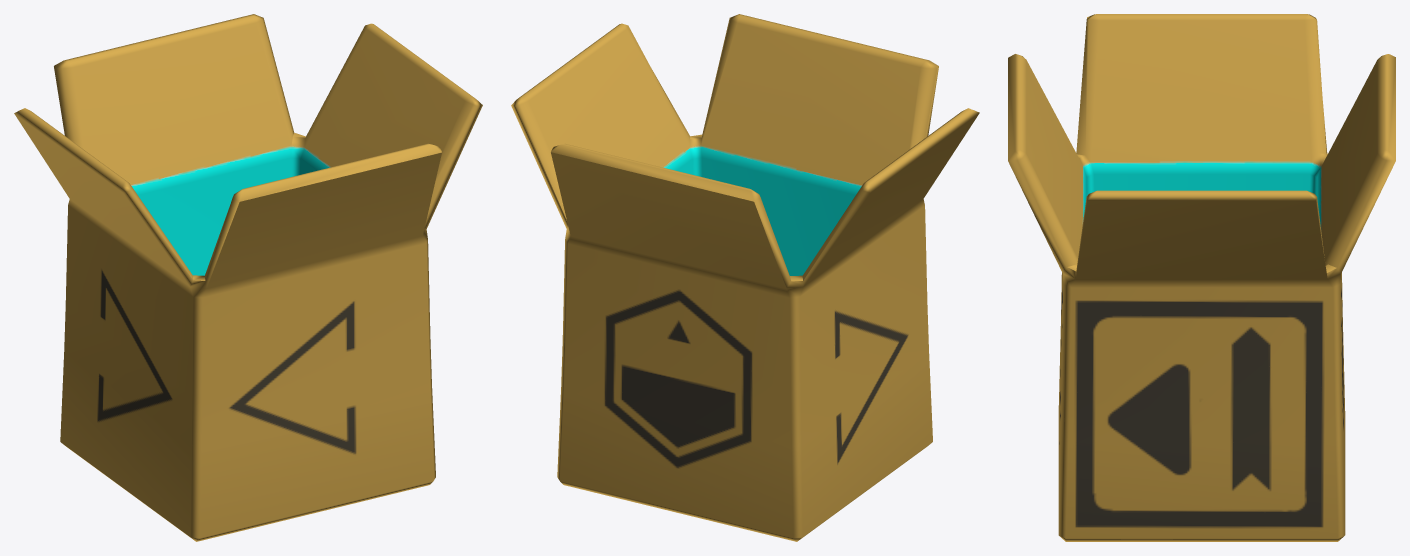
3 renders of one model, left to right at view 1: azimuth 30°, elevation 25°; view 2: azimuth 150°, elevation 25°; view 3: azimuth 270°, elevation 25°, orthographic. The views are drawn at different scales.
Visible parts, largest first — view 1: SM_Box_02; view 2: SM_Box_02; view 3: SM_Box_02.
Boxes of the visible parts, x1,y1,x2,y2 form: SM_Box_02: [14, 14, 482, 541]; SM_Box_02: [511, 14, 979, 541]; SM_Box_02: [1008, 14, 1395, 541].
Bounding box in the file's own units: 48.18 × 43.02 × 46.49.
